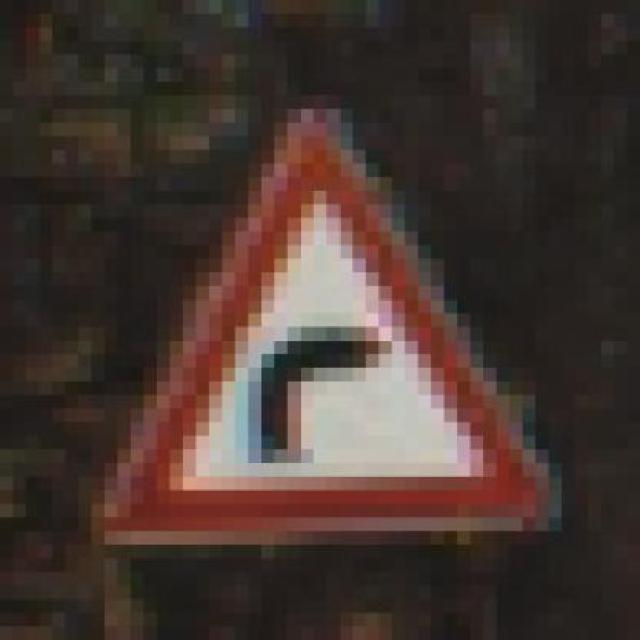Dangerous Rright Curve Ahead: (84, 107, 556, 556)
